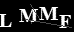F: (58, 14, 72, 29)
L: (1, 12, 13, 28)
M: (17, 8, 39, 23), (38, 6, 59, 21)
